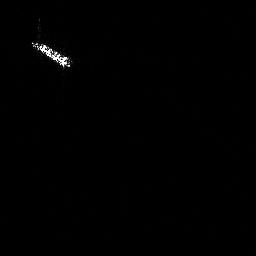ship: (31, 40, 71, 69)
